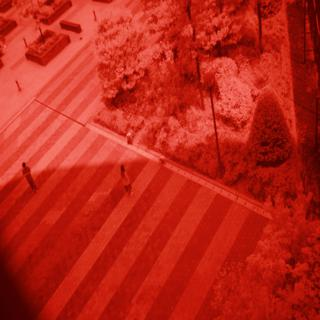person: (16, 158, 41, 199), (116, 157, 135, 200)
